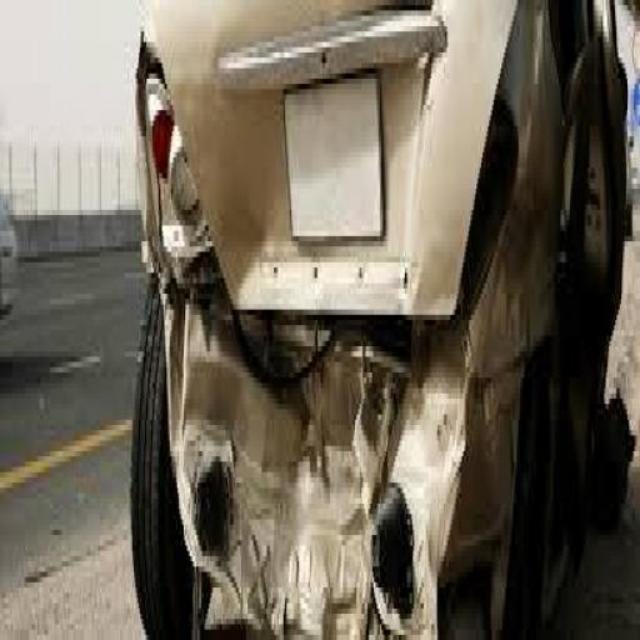no part: (134, 0, 625, 640)
